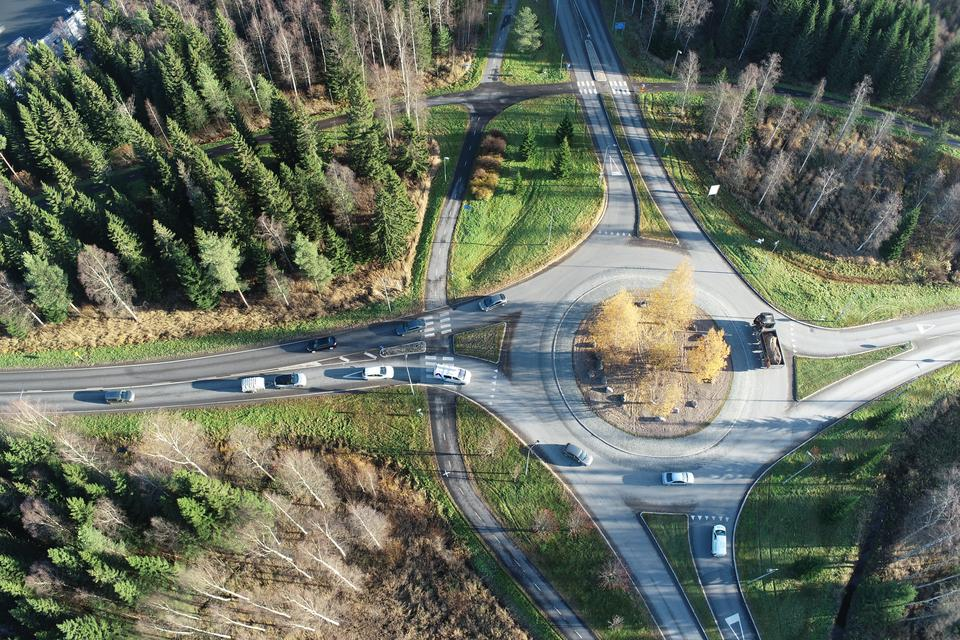intersection: (414, 289, 468, 420), (554, 62, 655, 107)
roundabout: (483, 161, 901, 528)
